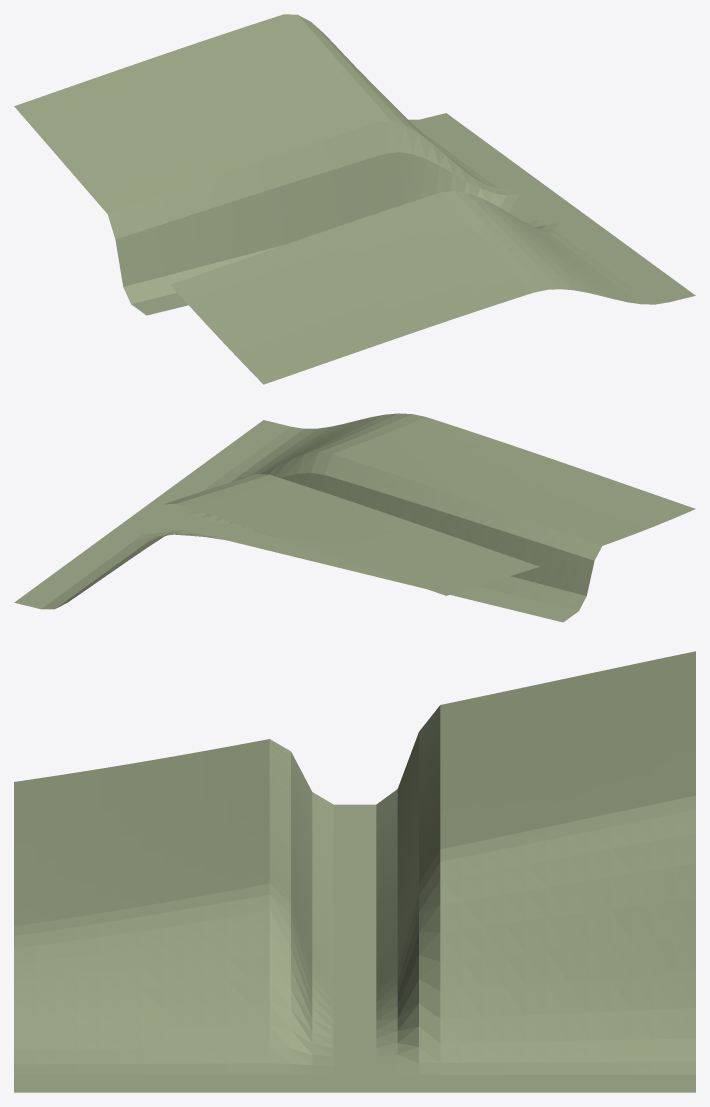
File: valley-1-2.glb
3 views of the same model, one above another, from view 1: azimuth 30°, elevation 25°; view 2: azimuth 150°, elevation 25°; view 3: azimuth 270°, elevation 25° (orthographic). The views are drawn at different scales.
Parts seen in each view (by area): view 1: valley-1-2; view 2: valley-1-2; view 3: valley-1-2.
Boxes of the visible parts, x1,y1,x2,y2 form: valley-1-2: (14, 14, 695, 384); valley-1-2: (14, 413, 695, 622); valley-1-2: (14, 651, 695, 1092).
Size of the model in its own units: 256 by 78.28 by 256.
